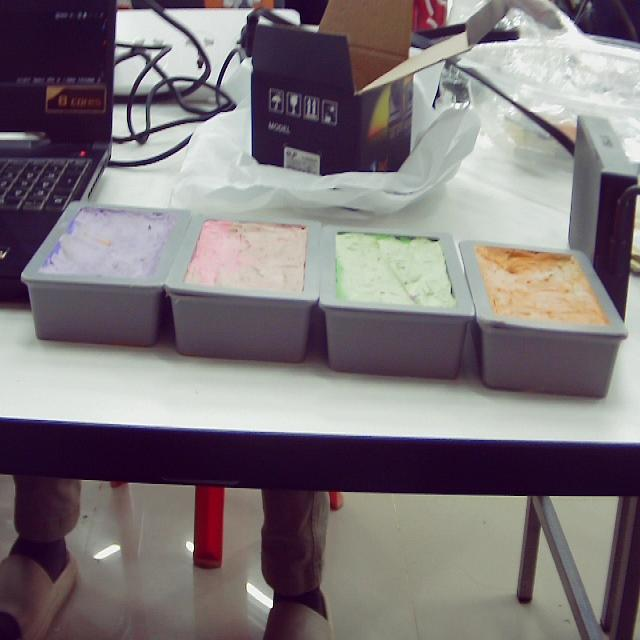block: (459, 243, 630, 396), (20, 202, 194, 348), (161, 212, 323, 363), (317, 228, 475, 379)
